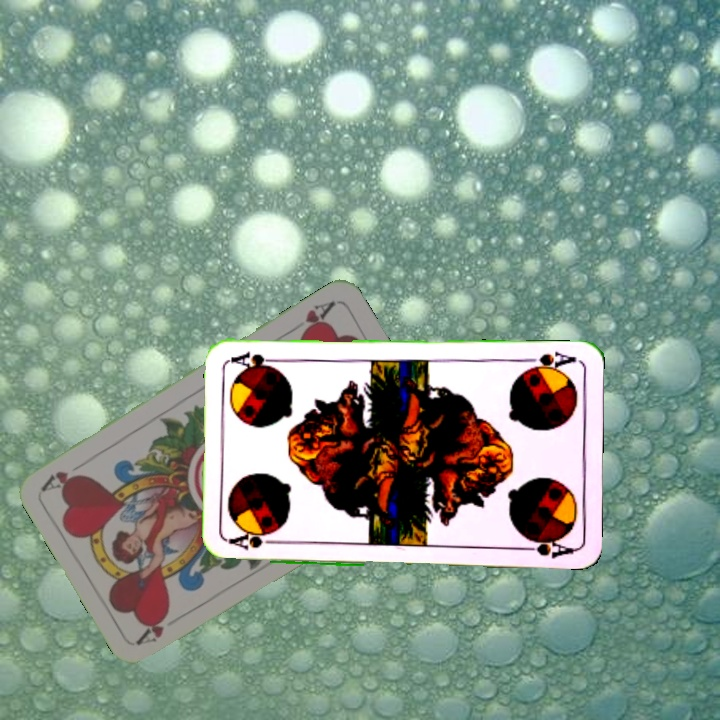HA: (285, 297, 338, 341), (133, 607, 172, 647)
SA: (518, 347, 578, 374), (226, 530, 285, 553)
